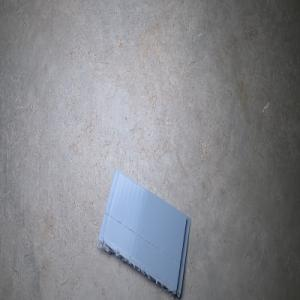PlasticPart: (95, 168, 190, 298)
